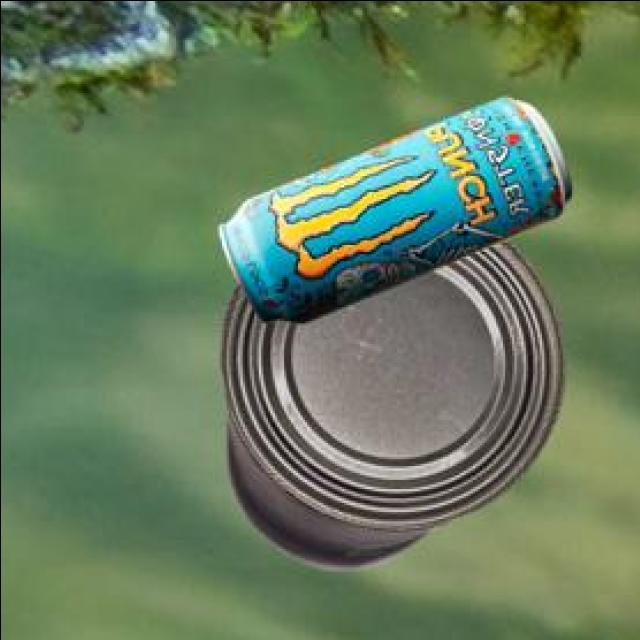logam: (218, 241, 561, 572), (215, 100, 567, 326)
